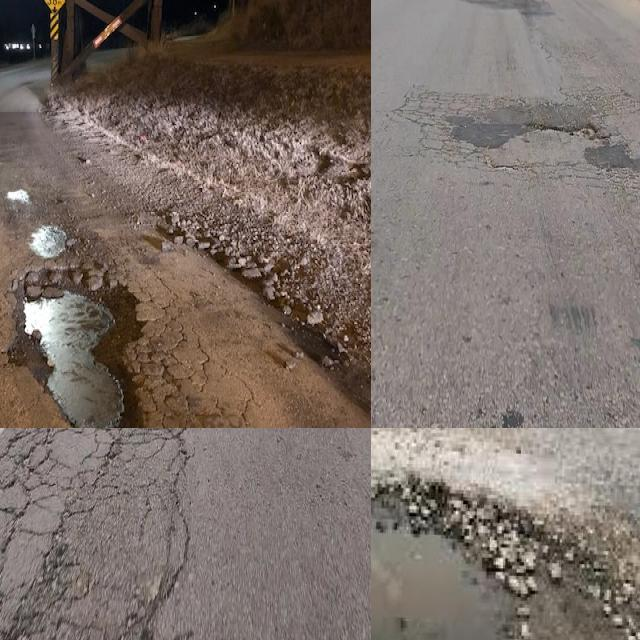Pothole: (371, 482, 579, 640), (371, 531, 505, 640), (26, 291, 124, 428), (529, 120, 611, 147), (31, 225, 67, 258), (7, 190, 29, 202)
